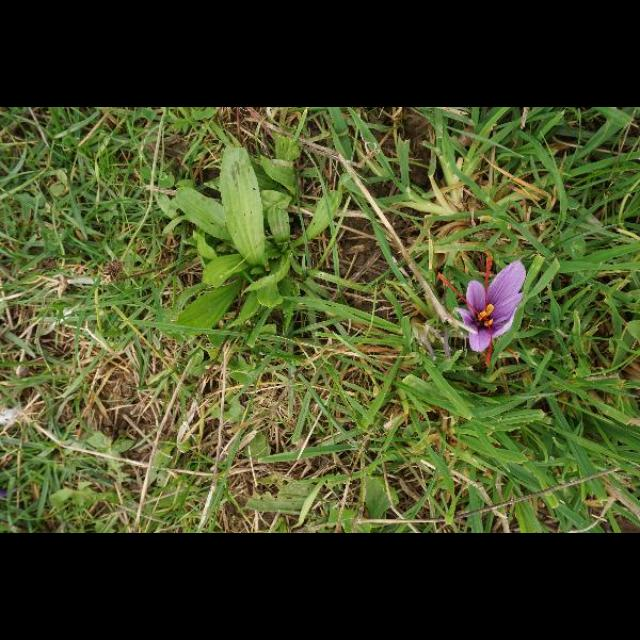flower: (438, 256, 528, 366)
